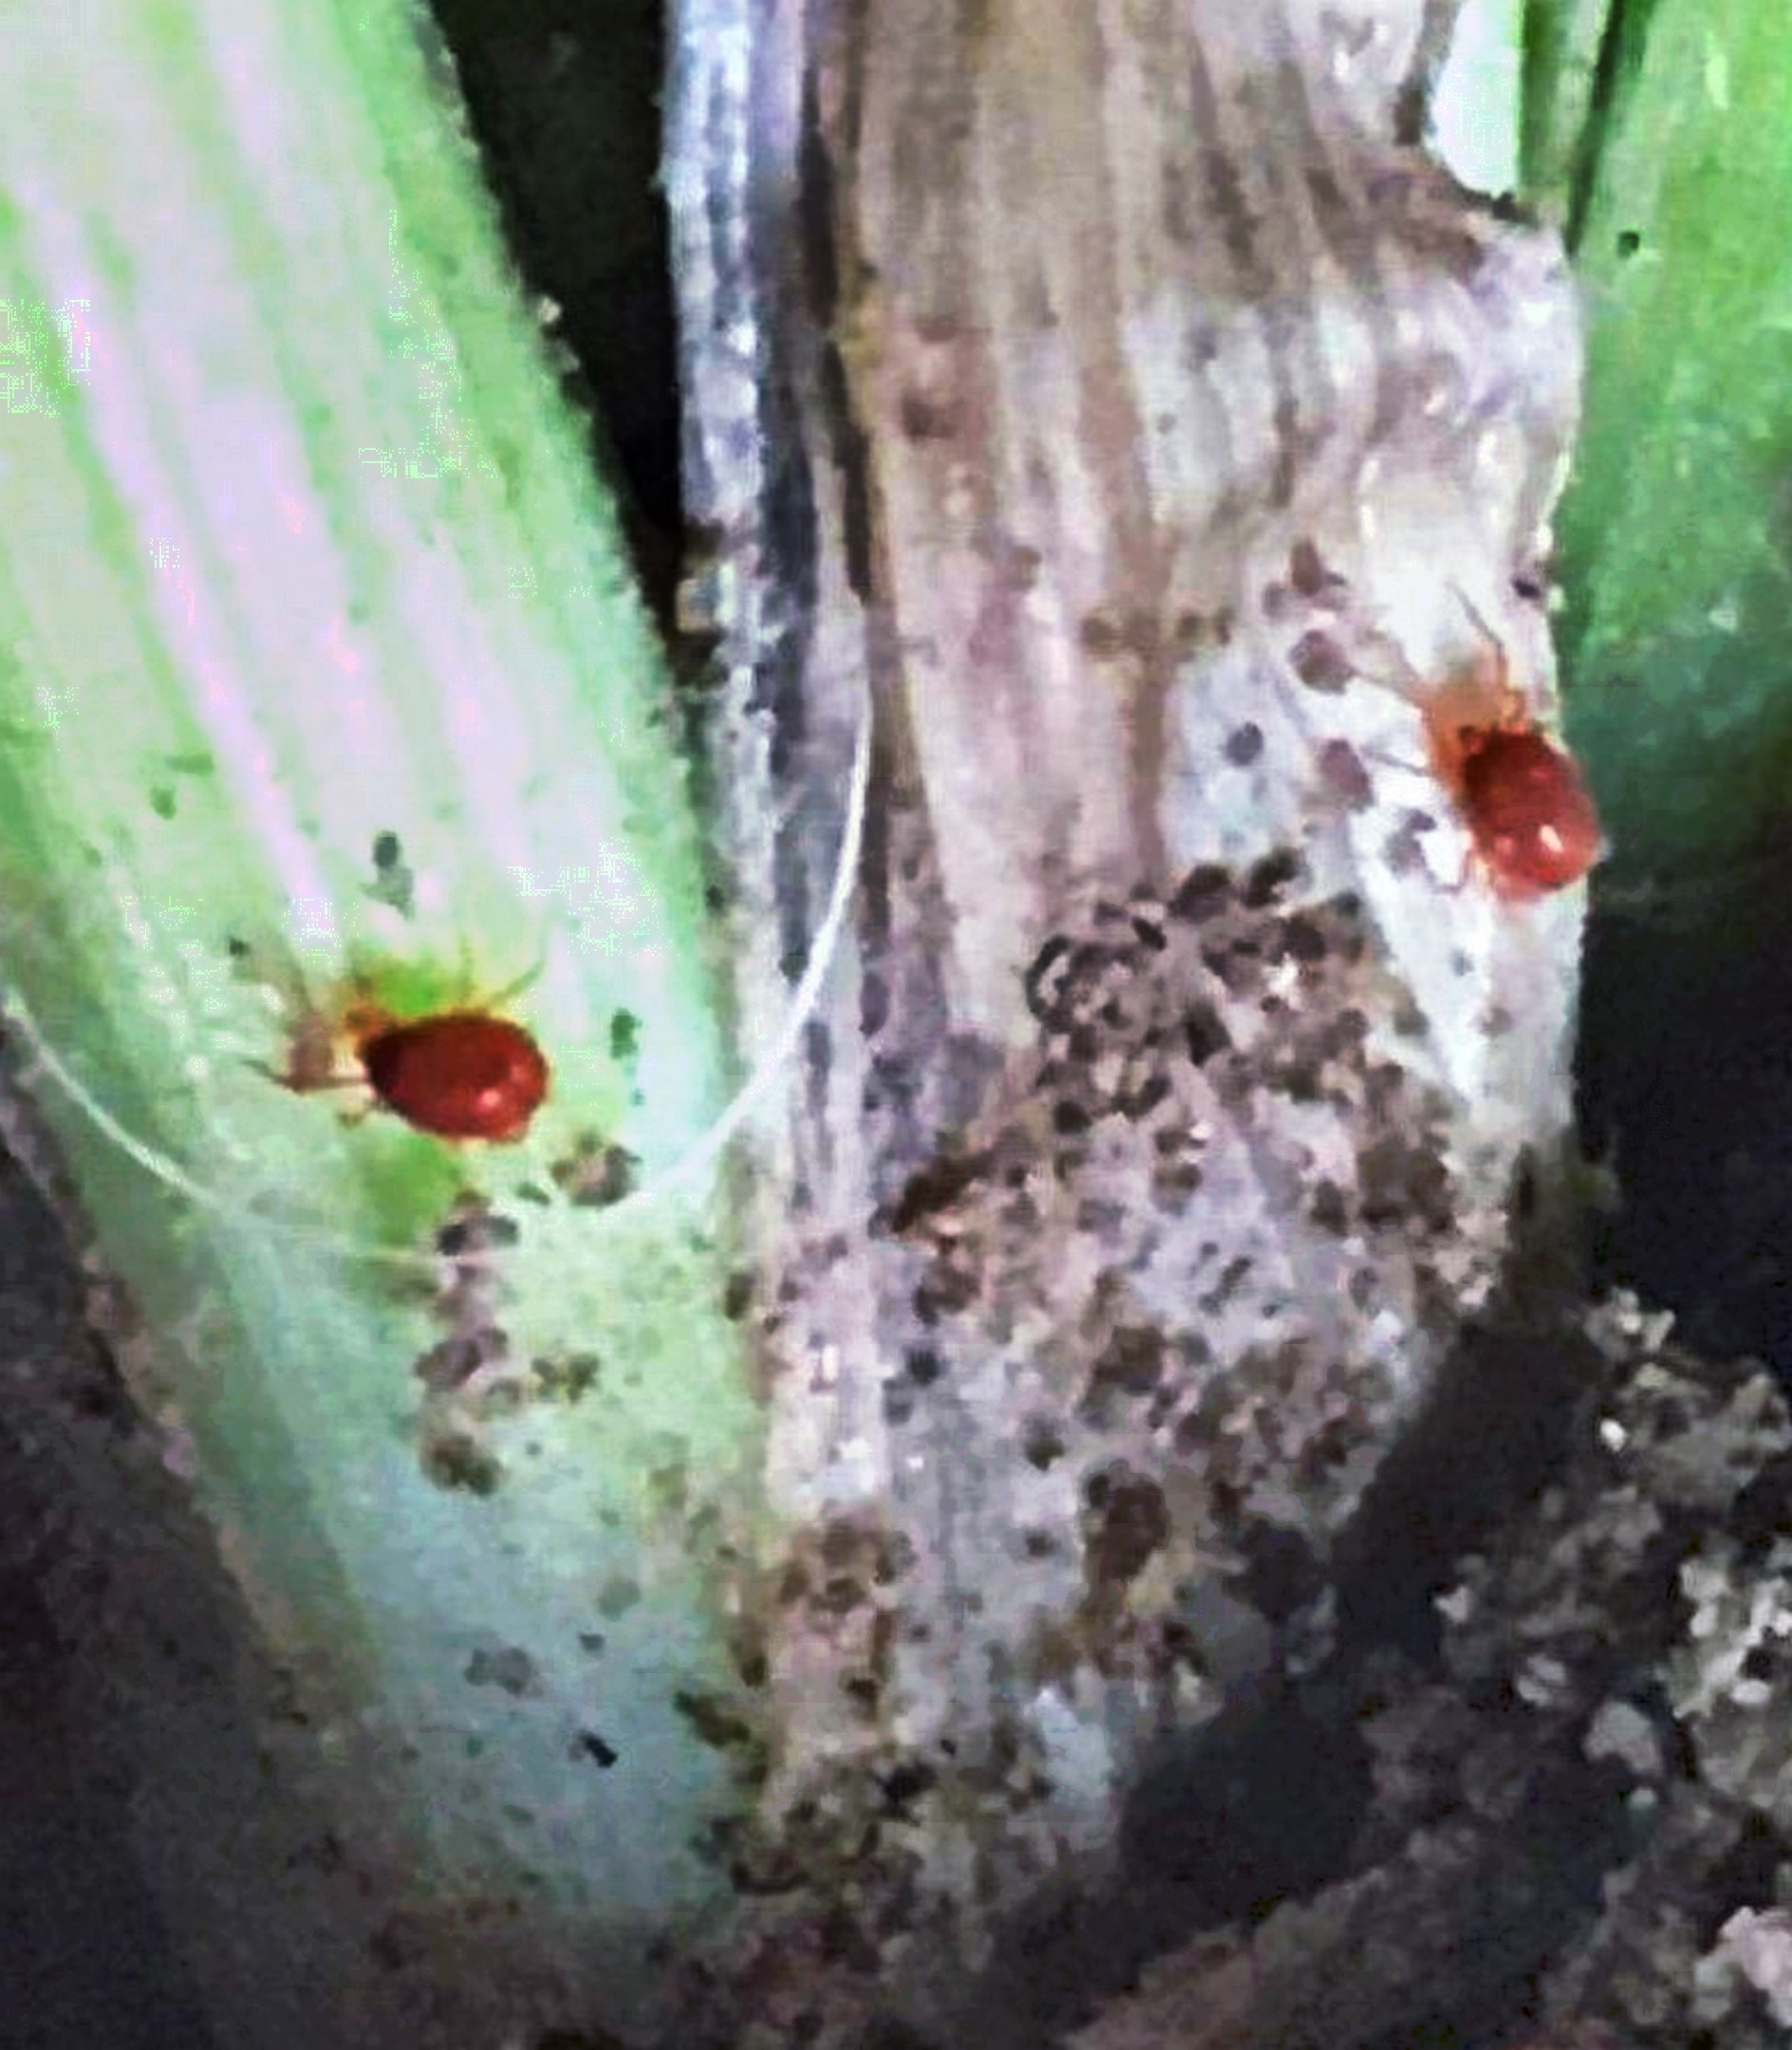Wheat Red Spider: (1314, 563, 1651, 943)
